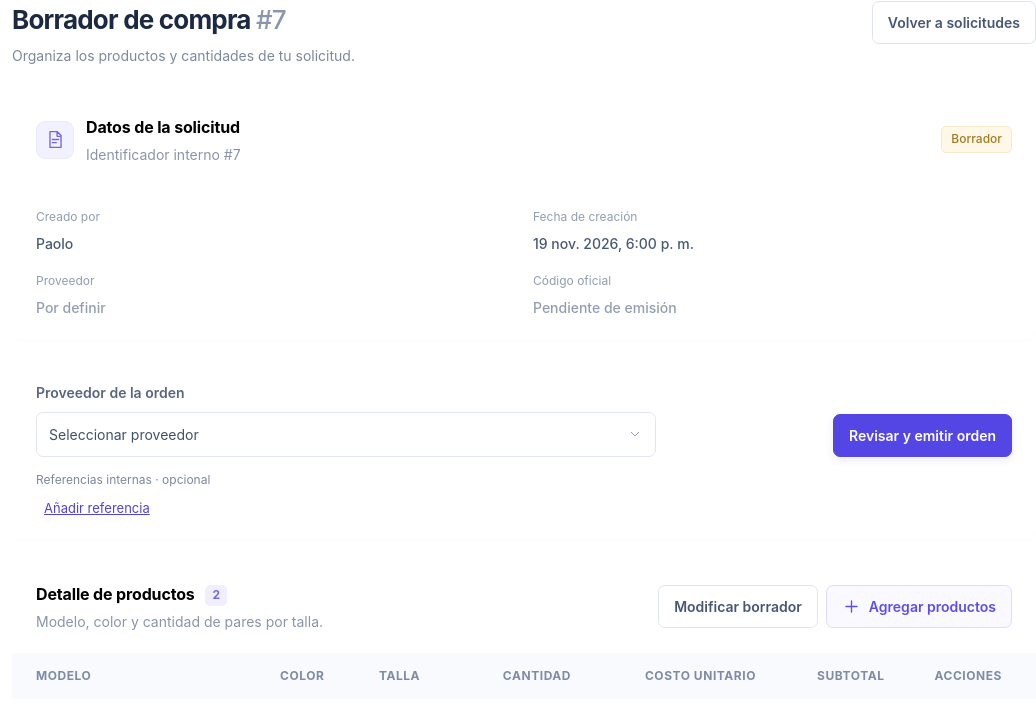
Test: un reintento no repite las modificaciones ya confirmadas
Click the button "Modificar borrador" at [738, 607], box top-left (658, 585), bottom-right (818, 628)
(page scrolled)
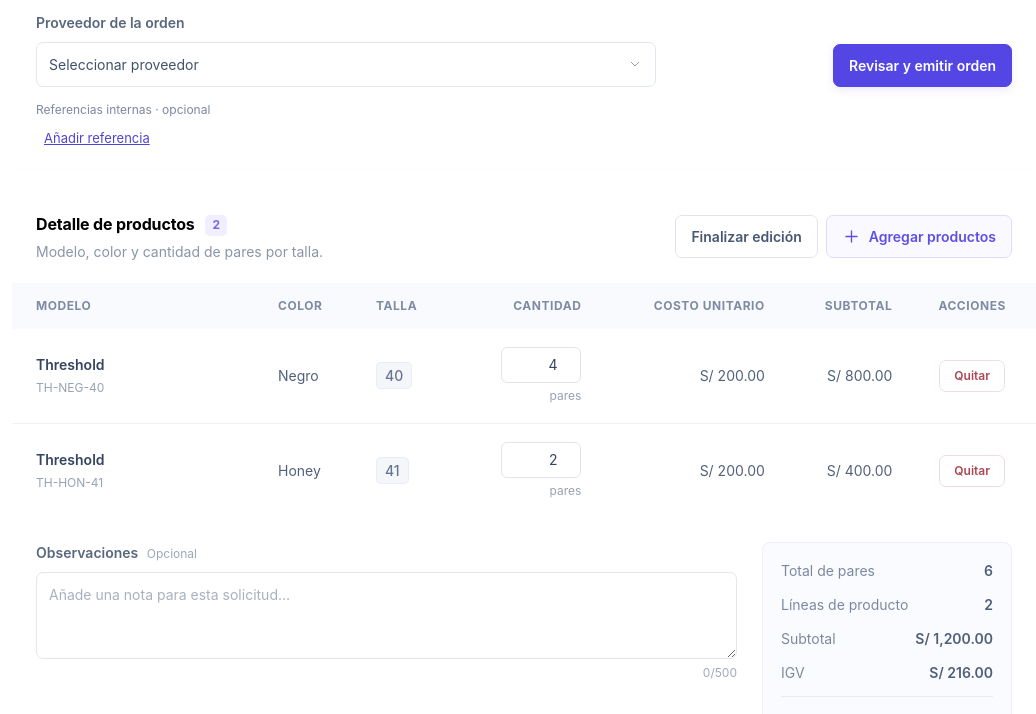
Replace the text in the number field named "Cantidad de Threshold, talla 40, Negro" with "7" at [541, 365], box top-left (501, 347), bottom-right (581, 383)
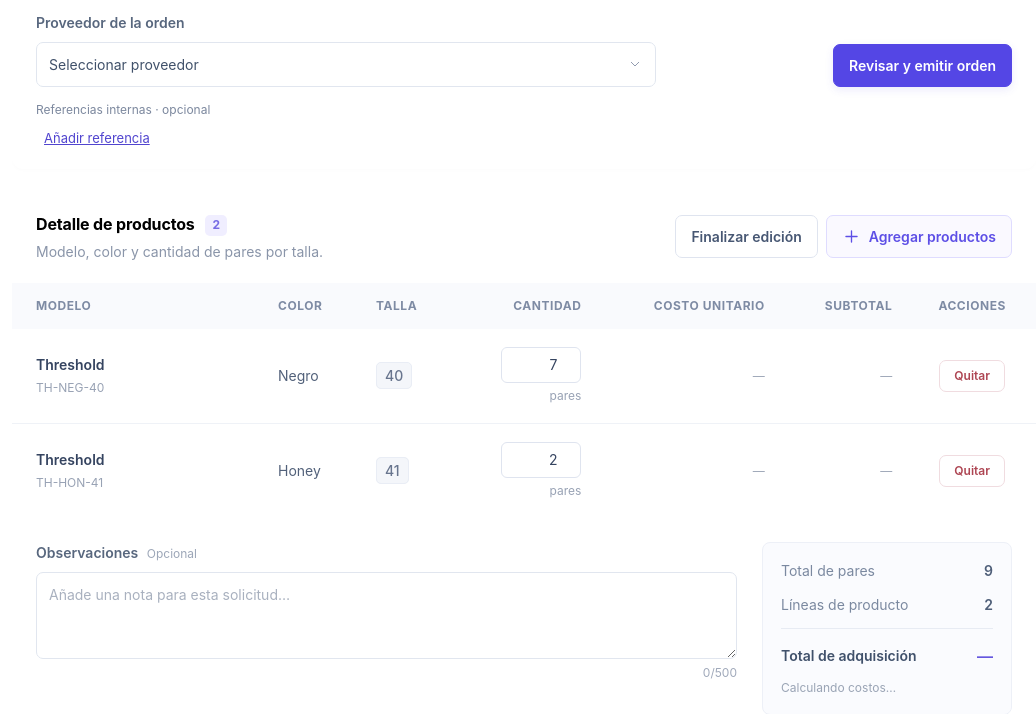
Replace the text in the number field named "Cantidad de Threshold, talla 41, Honey" with "3" at [541, 460], box top-left (501, 442), bottom-right (581, 478)
(page scrolled)
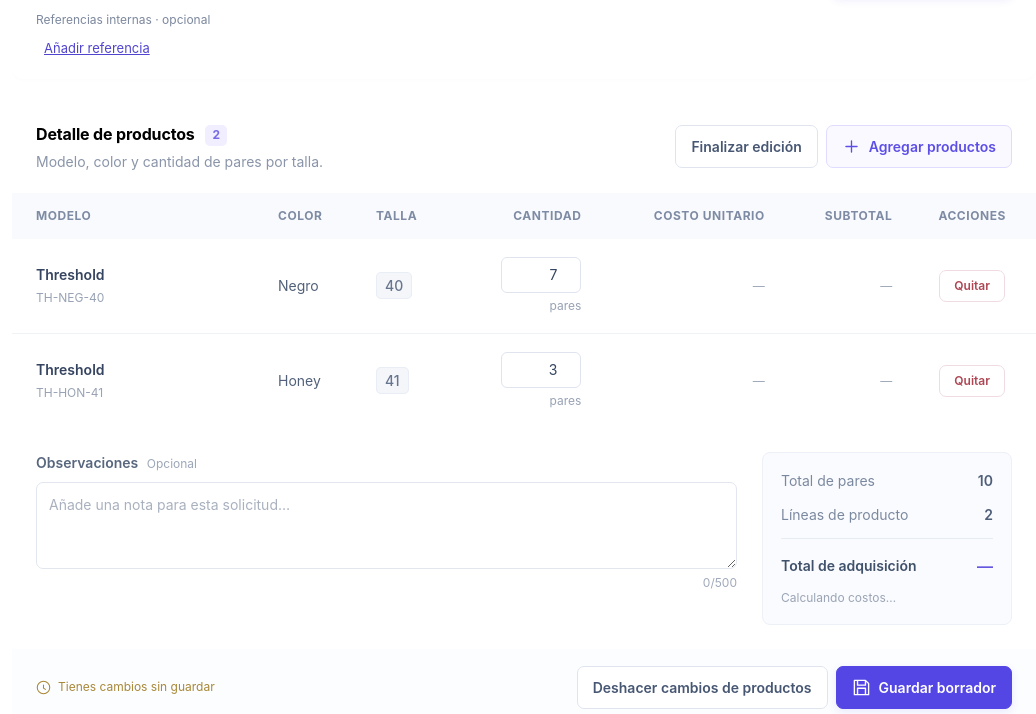
Click the button "Guardar borrador" at [924, 687], box top-left (836, 666), bottom-right (1012, 709)
(page scrolled)
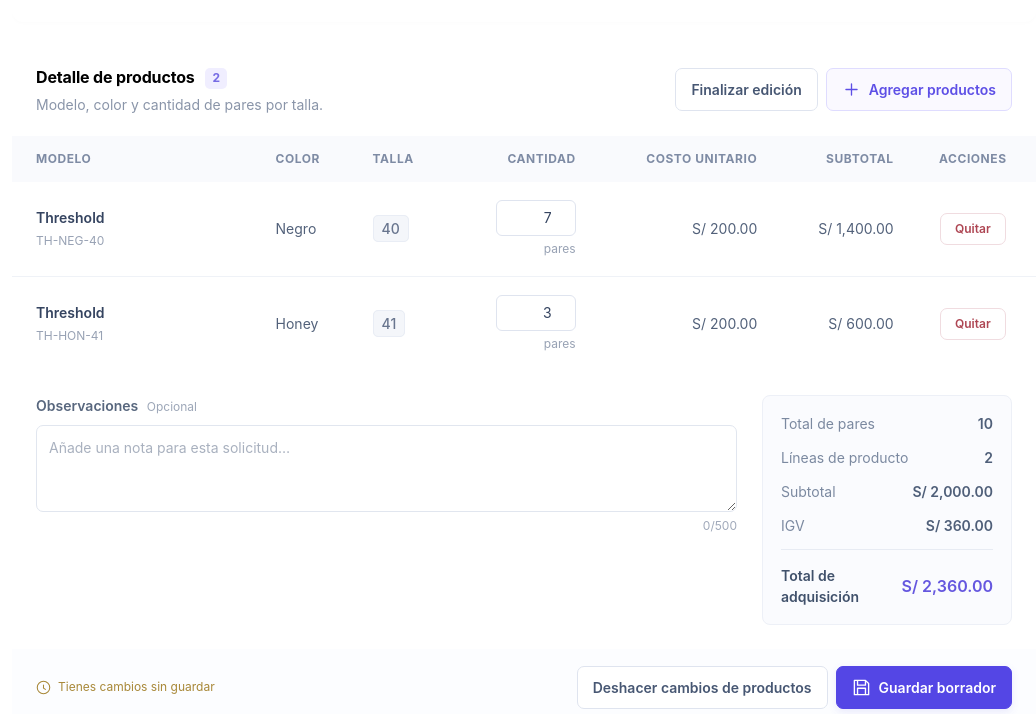
Click the button "Guardar borrador" at [924, 687], box top-left (836, 666), bottom-right (1012, 709)
(page scrolled)
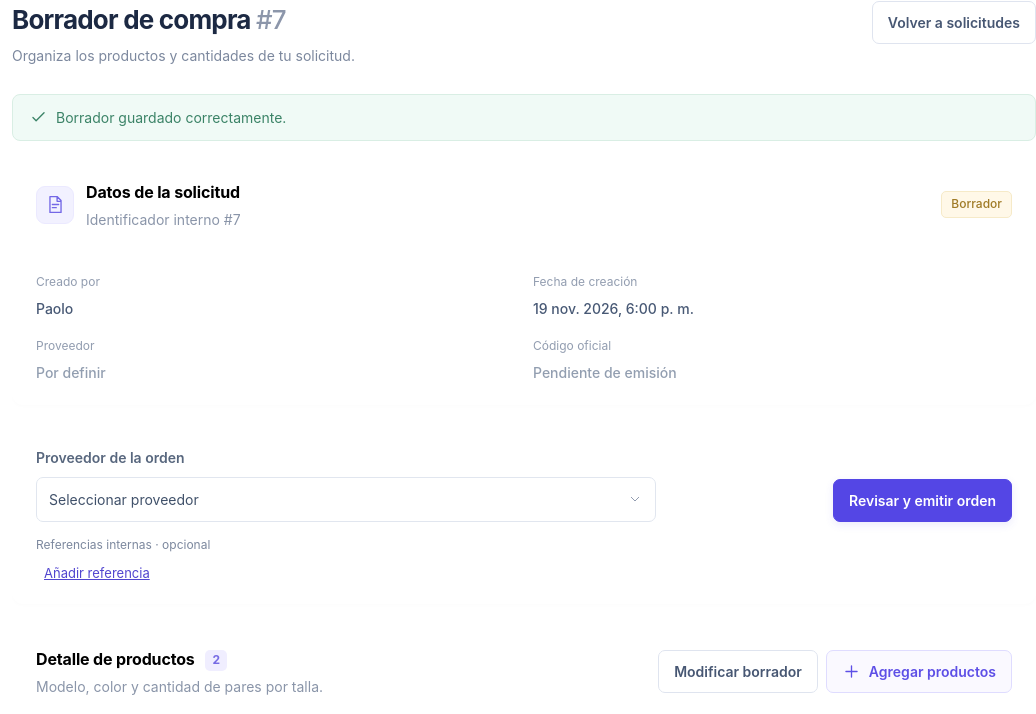
Result: the text "Borrador guardado correctamente." is shown at top-left (12, 94), bottom-right (1035, 140)
